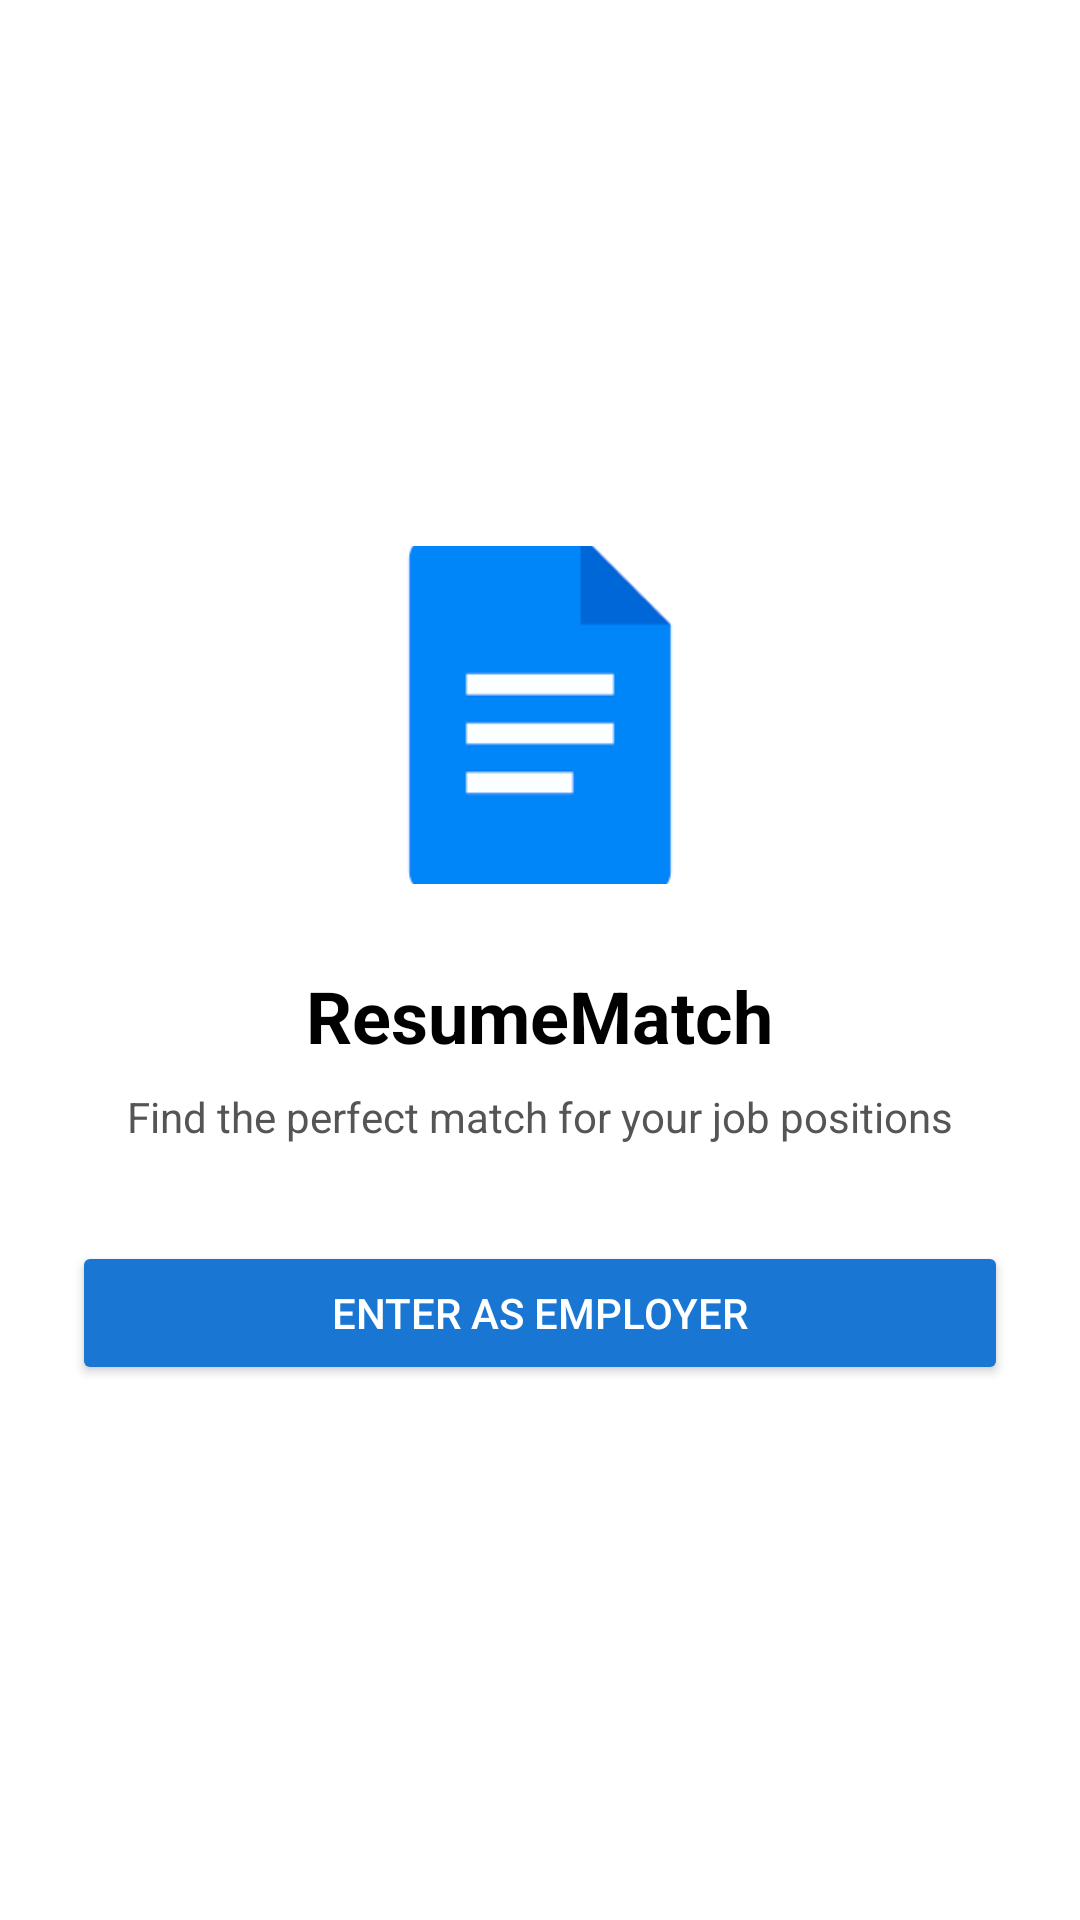

Icon click points for this 1080px x 1920px phone screenshot, format [x,y]:
Resume icon: [540,715]
